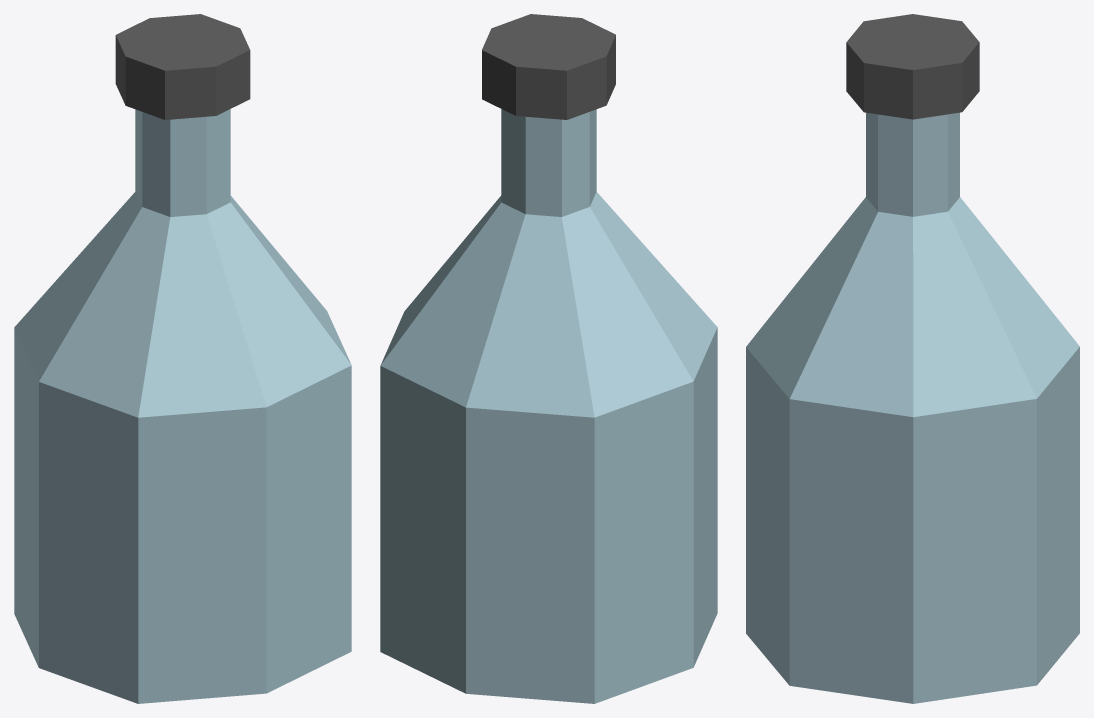
The model's file is Bottle_25.fbx.
The picture shows the model from 3 angles, left to right: view 1: azimuth 30°, elevation 25°; view 2: azimuth 150°, elevation 25°; view 3: azimuth 270°, elevation 25°; orthographic projection.
Parts seen in each view (by area): view 1: Bottle_25; view 2: Bottle_25; view 3: Bottle_25.
Boxes of the visible parts, x1=… form: Bottle_25: x1=14, y1=14, x2=351, y2=703; Bottle_25: x1=380, y1=14, x2=717, y2=703; Bottle_25: x1=746, y1=14, x2=1079, y2=703.
Bounding box in the file's own units: 17.38 × 17.38 × 33.96.
